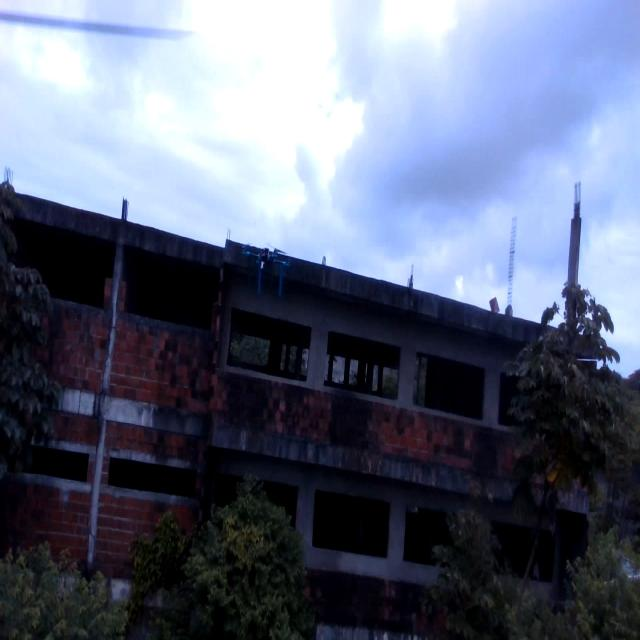-uav-: (243, 236, 291, 299)
